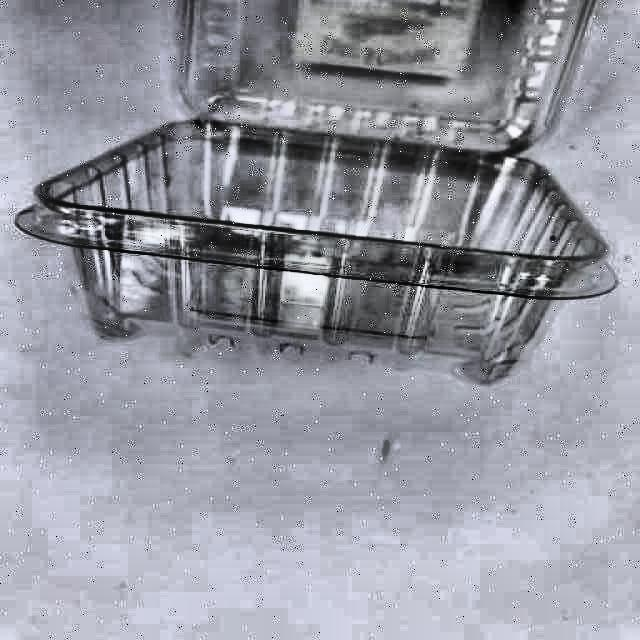plastic: (16, 0, 615, 382)
